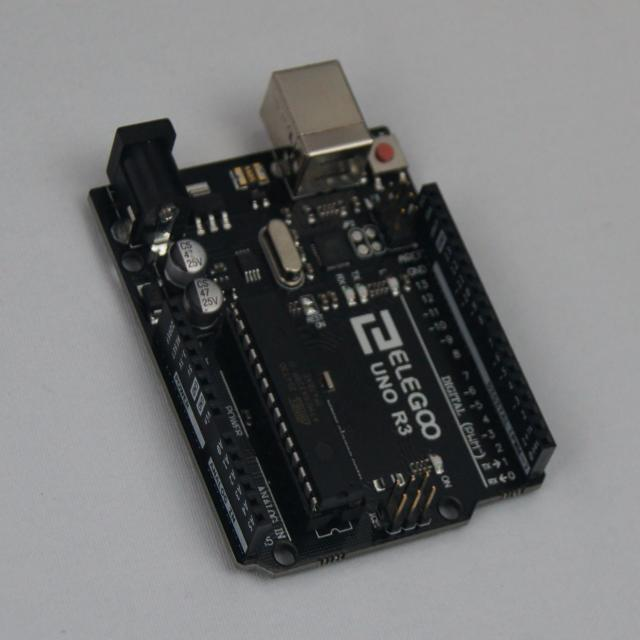Arduino Uno -Black-: (92, 61, 556, 573)
